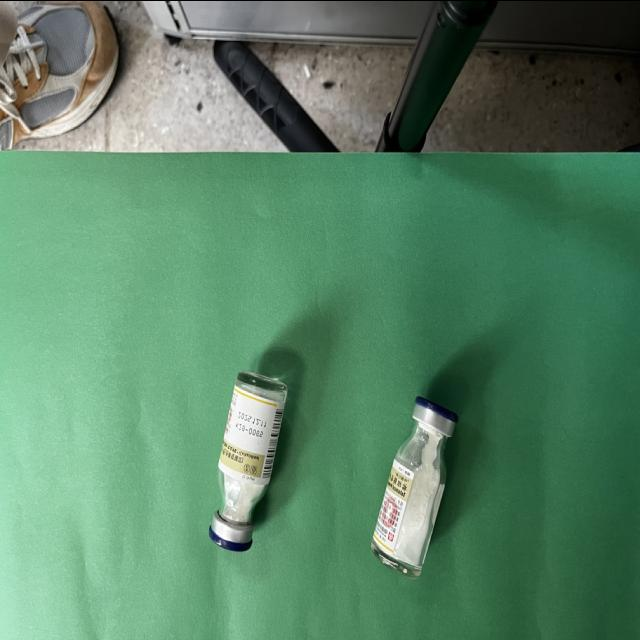Vials: (371, 395, 458, 576), (209, 370, 288, 551)
